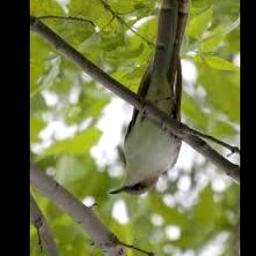Cuckoo: (109, 0, 191, 196)
